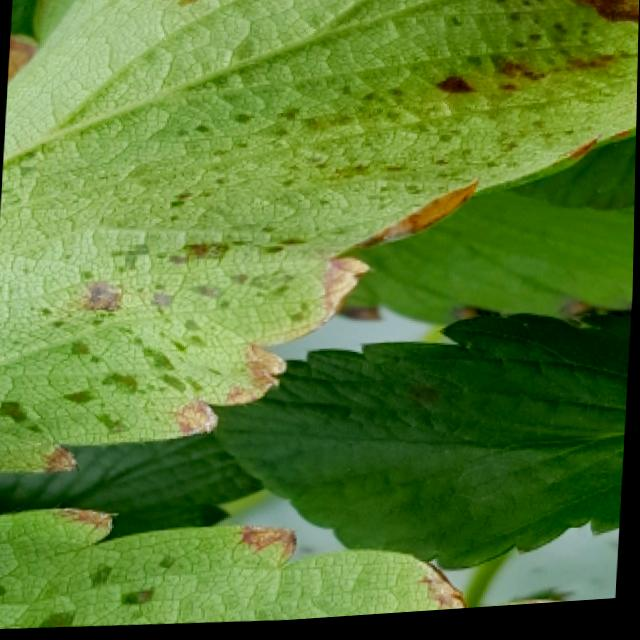Angular Leafspot: (0, 0, 639, 474), (0, 509, 470, 629)
